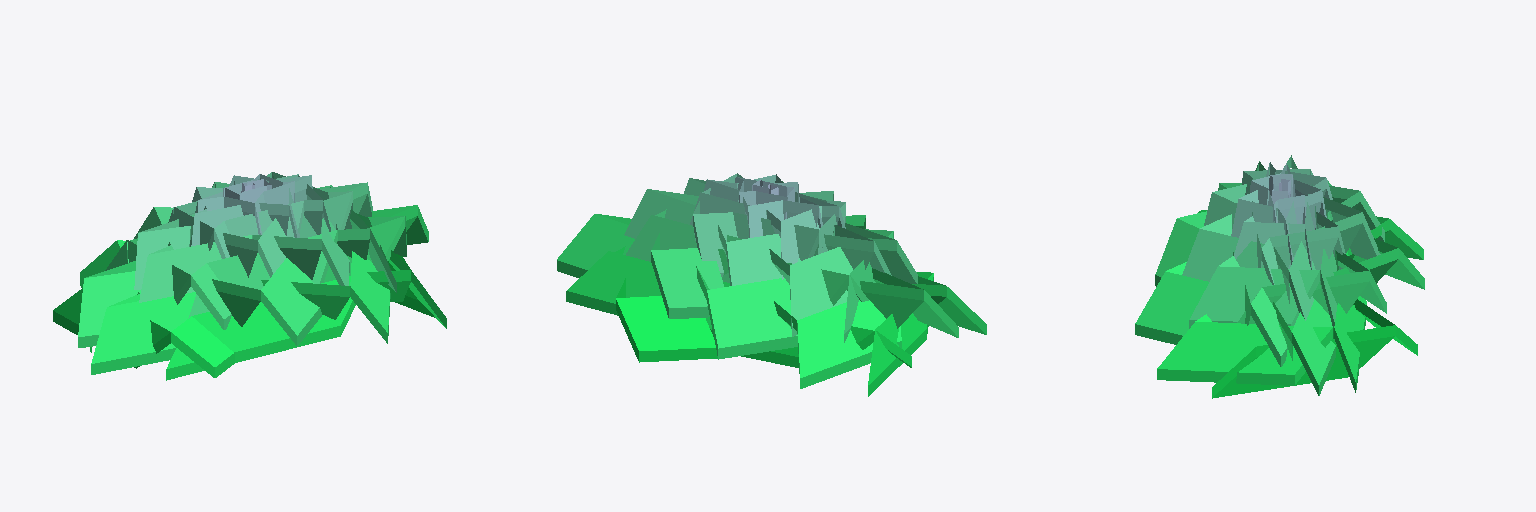
The model's file is moss.obj.
3 renders of one model, left to right at view 1: azimuth 30°, elevation 25°; view 2: azimuth 150°, elevation 25°; view 3: azimuth 270°, elevation 25°, orthographic.
Size of the model in its own units: 72.67 by 26.08 by 47.5.